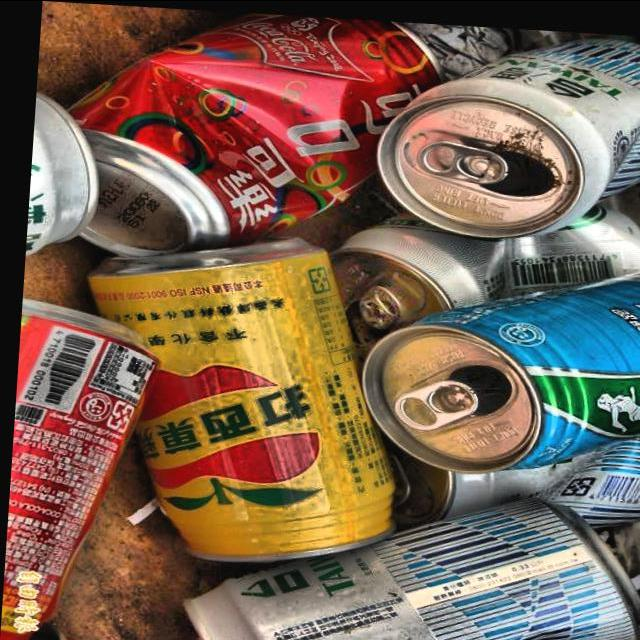litter: (61, 218, 430, 580), (36, 0, 454, 274), (158, 470, 640, 640), (348, 242, 640, 478), (358, 16, 640, 246), (1, 290, 164, 640), (325, 180, 640, 358), (382, 401, 640, 561), (20, 80, 104, 273)
